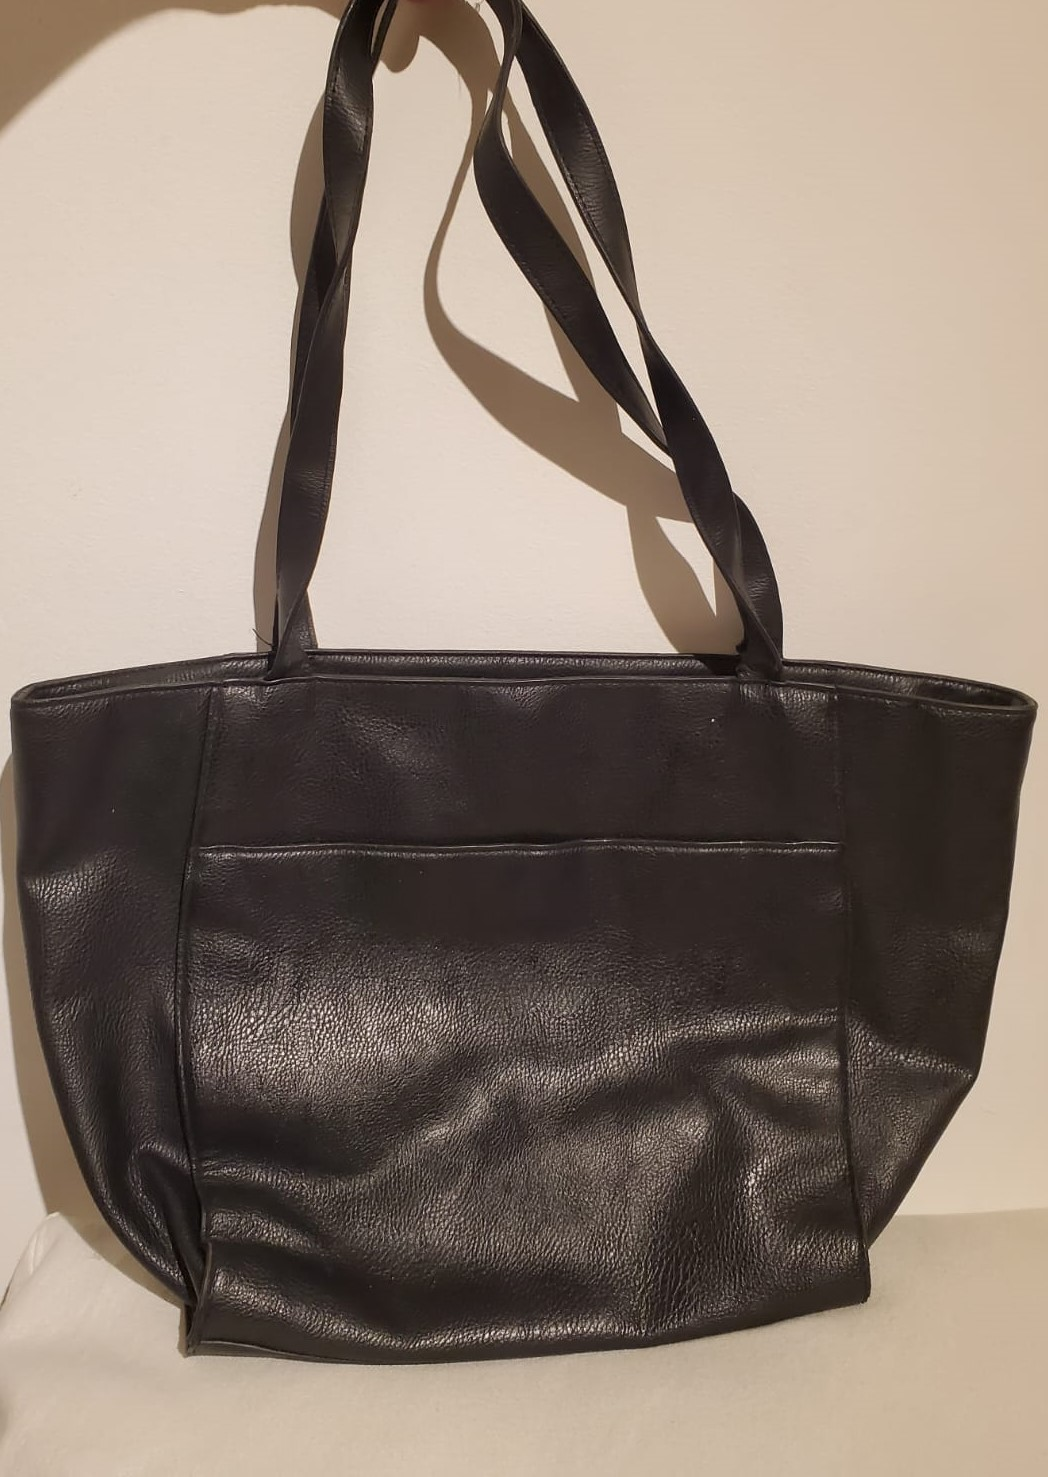cartera: (8, 1, 1042, 1390)
cuero: (130, 685, 855, 1277)
